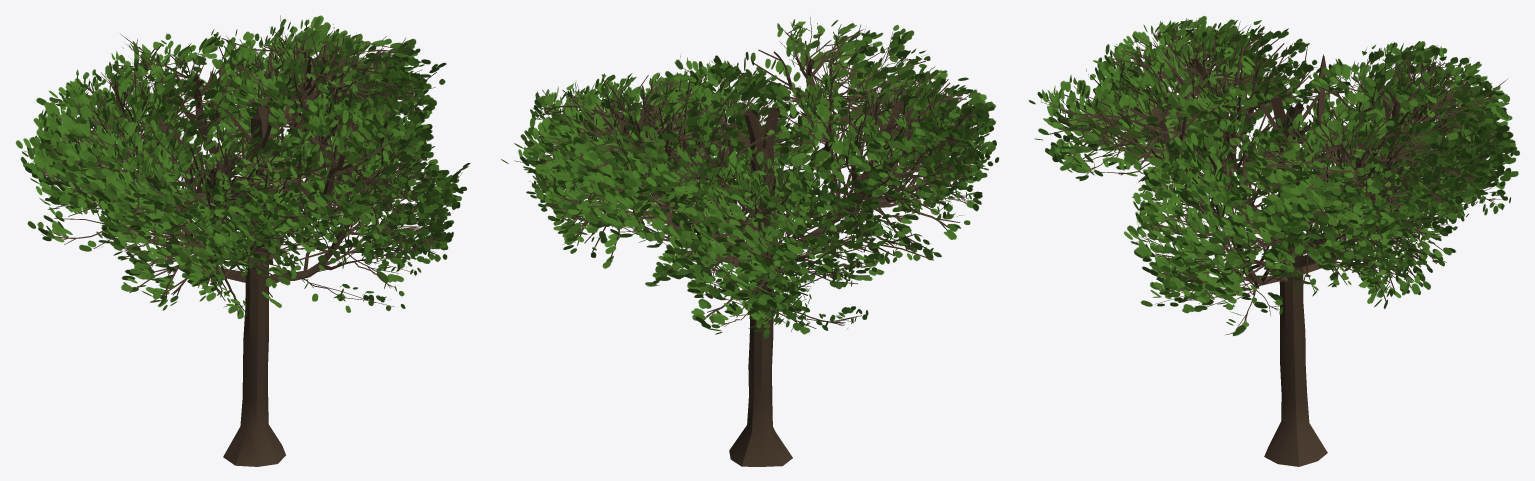
The picture shows the model from 3 angles, left to right: view 1: azimuth 30°, elevation 25°; view 2: azimuth 150°, elevation 25°; view 3: azimuth 270°, elevation 25°; orthographic projection. The views are drawn at different scales.
Parts seen in each view (by area): view 1: oak 01.001_trunk_Mat.001_0.164; view 2: oak 01.001_trunk_Mat.001_0.164; view 3: oak 01.001_trunk_Mat.001_0.164.
Part boxes in pixels (x1,y1,x2,y2): oak 01.001_trunk_Mat.001_0.164: [15, 15, 470, 466]; oak 01.001_trunk_Mat.001_0.164: [501, 17, 999, 466]; oak 01.001_trunk_Mat.001_0.164: [1028, 16, 1519, 466].
Size of the model in its own units: 4.38 by 3.82 by 4.56.
2 materials, 1 textured.
